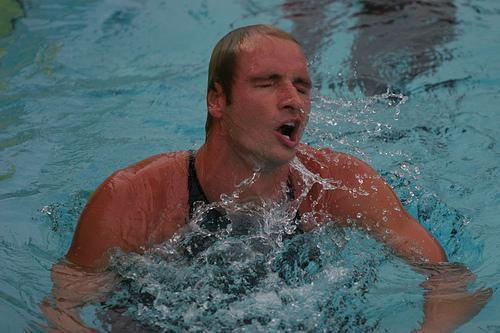human: (67, 24, 494, 332)
